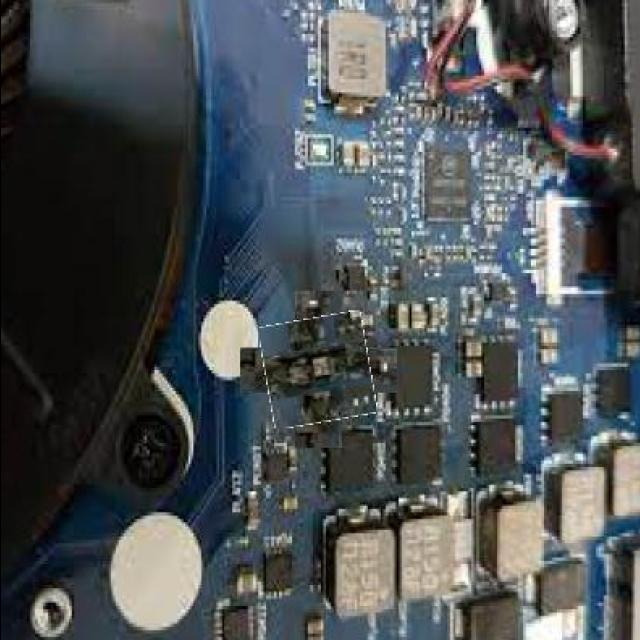Burn: (261, 314, 373, 426)
